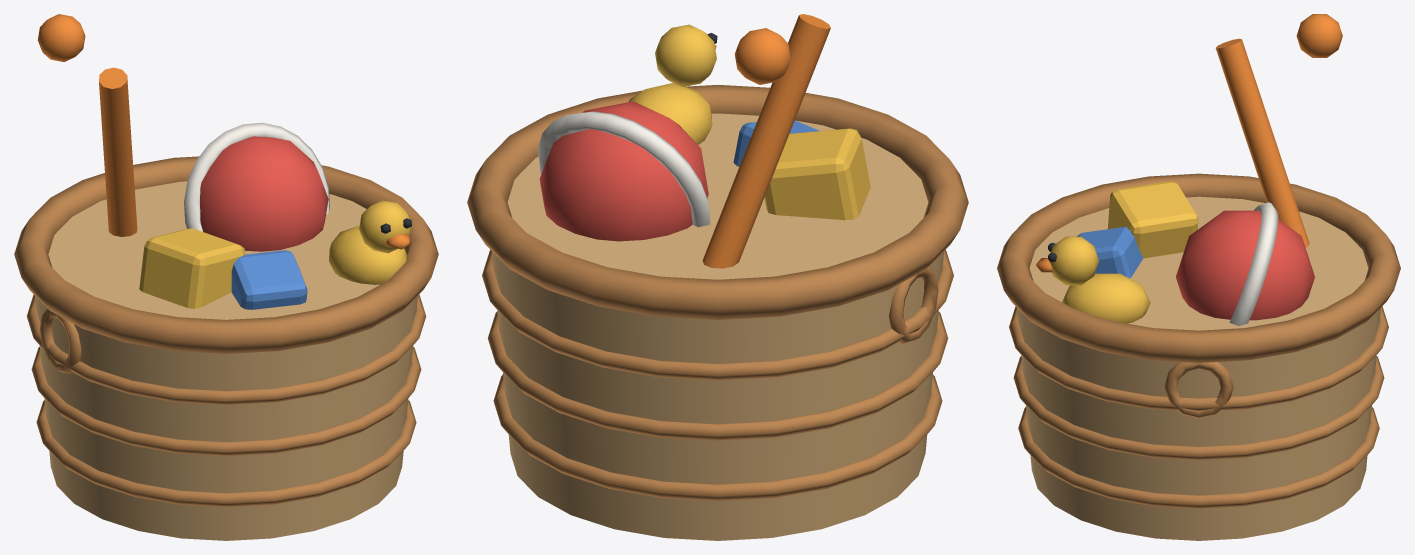
File: cesto-brinquedos.glb
The picture shows the model from 3 angles, left to right: view 1: azimuth 30°, elevation 25°; view 2: azimuth 150°, elevation 25°; view 3: azimuth 270°, elevation 25°; orthographic projection. The views are drawn at different scales.
Visible parts, largest first — view 1: cesto-brinquedos; view 2: cesto-brinquedos; view 3: cesto-brinquedos.
Boxes of the visible parts, x1,y1,x2,y2 form: cesto-brinquedos: (14,14,438,540); cesto-brinquedos: (467,14,968,540); cesto-brinquedos: (997,14,1400,540).
Size of the model in its own units: 0.87 by 0.97 by 0.87.
